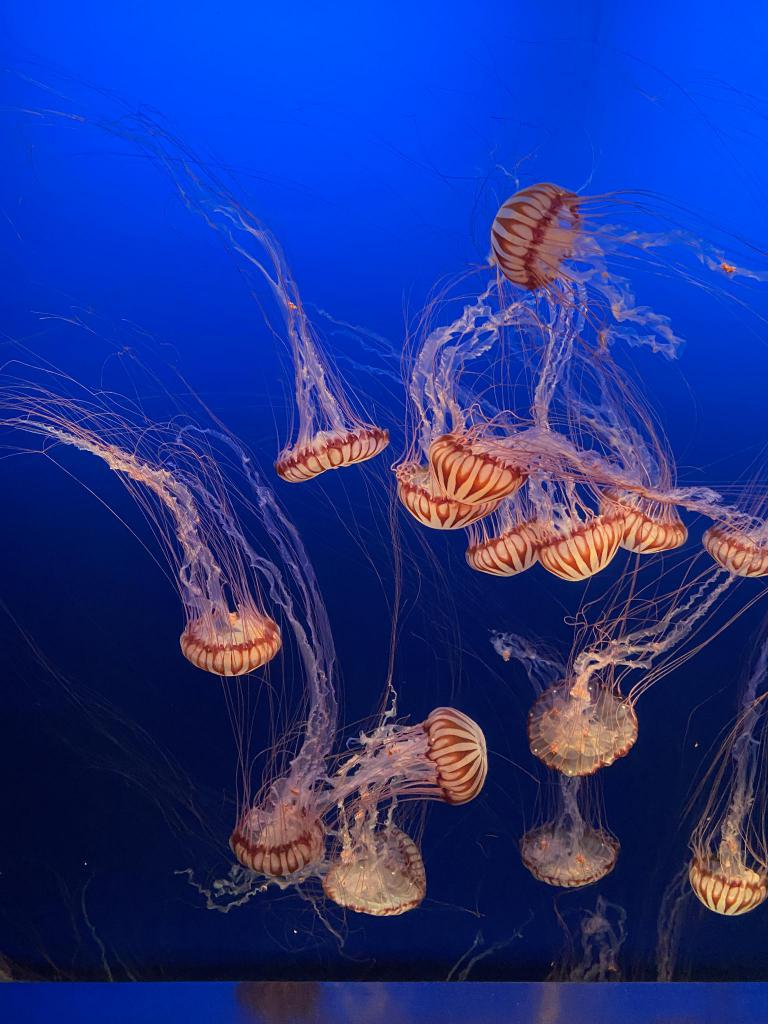Jellyfish: (394, 187, 767, 581), (230, 528, 487, 912), (14, 413, 284, 674), (521, 573, 732, 887), (186, 192, 384, 482), (690, 643, 767, 916)
